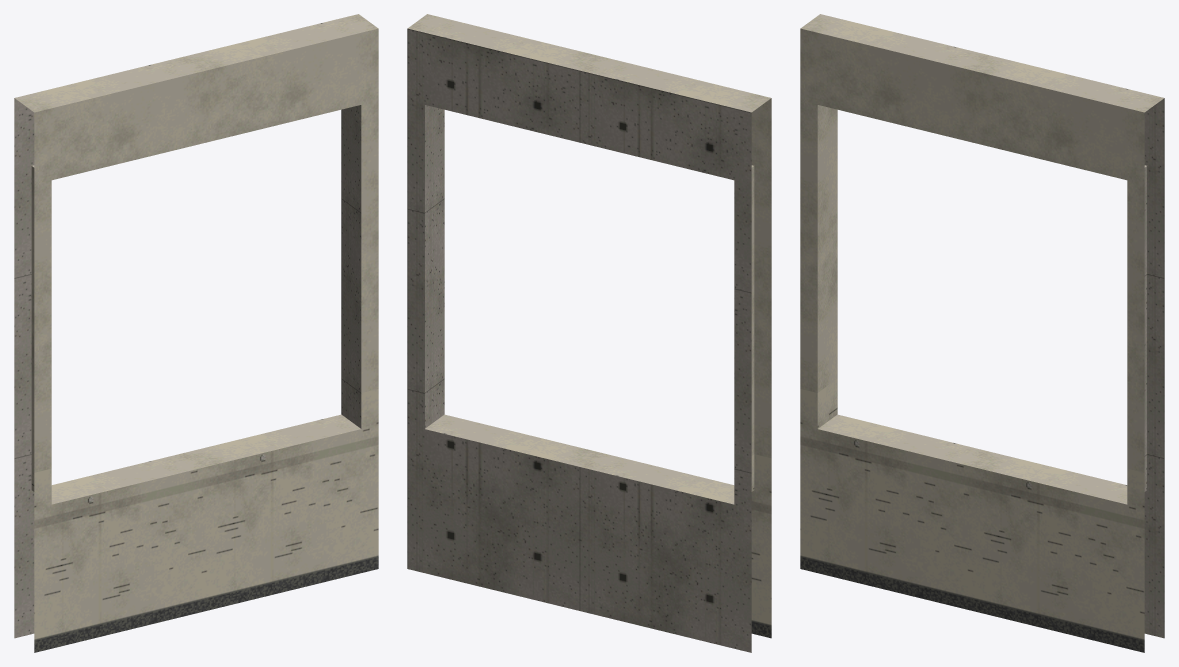
The model's file is wall_window.fbx.
3 views of the same model, side by side, from view 1: azimuth 30°, elevation 25°; view 2: azimuth 150°, elevation 25°; view 3: azimuth 330°, elevation 25° (orthographic).
Visible parts, largest first — view 1: wall_window; view 2: wall_window; view 3: wall_window.
Part boxes in pixels (x1=…): wall_window: x1=14, y1=14, x2=378, y2=652; wall_window: x1=407, y1=14, x2=771, y2=652; wall_window: x1=800, y1=14, x2=1164, y2=652.
Size of the model in its own units: 2 by 3 by 0.2.
